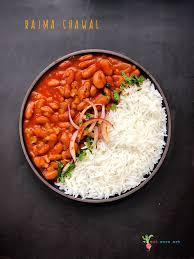rajma: (29, 56, 112, 148)
rice: (75, 112, 160, 188)
salad: (66, 90, 113, 154)
